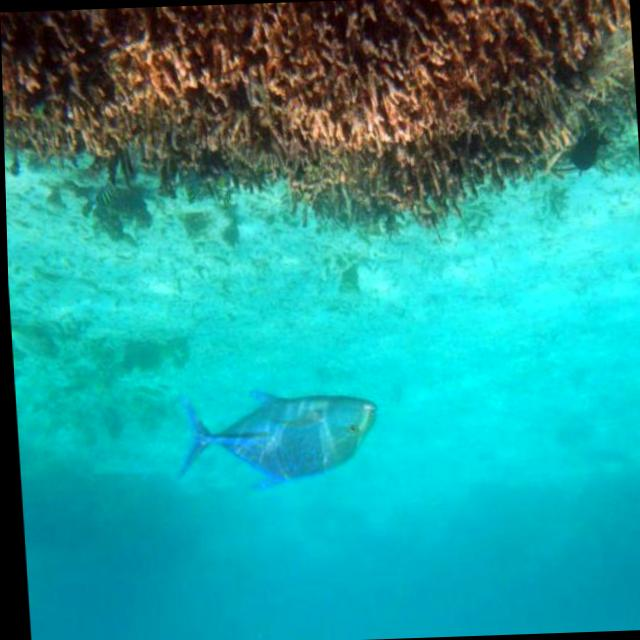Dead Coral: (0, 0, 615, 220)
